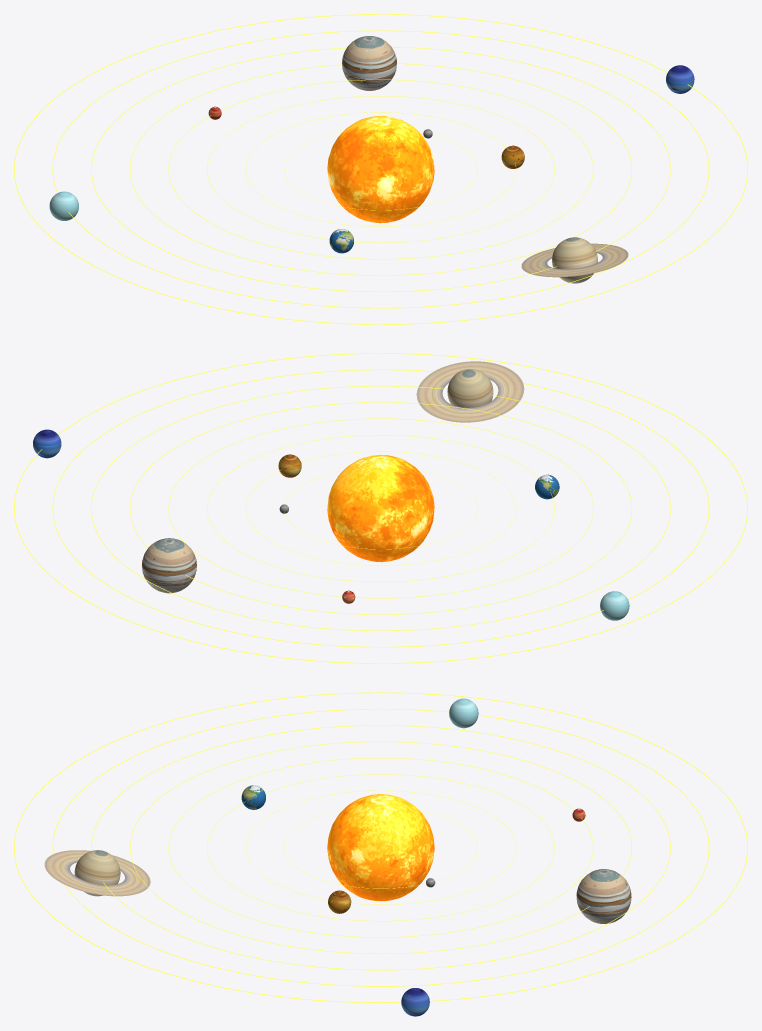
File: modello_del_sistema_solare.glb
3 renders of one model, top to bottom at view 1: azimuth 30°, elevation 25°; view 2: azimuth 150°, elevation 25°; view 3: azimuth 270°, elevation 25°, orthographic.
Visible parts, largest first — view 1: Sun_20, Saturn_28, Jupiter_25, Neptune orbit.001_19, Uranus orbit.001_18, Saturn orbit.001_17, Jupiter orbit.001_16, Mars orbit.001_15, Earth orbit.001_14, Uranus_26, Neptune_27; view 2: Sun_20, Saturn_28, Jupiter_25, Neptune orbit.001_19, Uranus orbit.001_18, Saturn orbit.001_17, Jupiter orbit.001_16, Mars orbit.001_15, Earth orbit.001_14, Uranus_26, Neptune_27; view 3: Sun_20, Saturn_28, Jupiter_25, Neptune orbit.001_19, Uranus orbit.001_18, Saturn orbit.001_17, Jupiter orbit.001_16, Mars orbit.001_15, Earth orbit.001_14, Uranus_26, Neptune_27.
Boxes of the visible parts, bbox=[...] form: Sun_20: bbox=[327, 115, 434, 223]; Saturn_28: bbox=[521, 237, 628, 283]; Jupiter_25: bbox=[342, 36, 396, 90]; Neptune orbit.001_19: bbox=[14, 14, 747, 324]; Uranus orbit.001_18: bbox=[52, 30, 709, 308]; Saturn orbit.001_17: bbox=[91, 47, 670, 291]; Jupiter orbit.001_16: bbox=[130, 63, 631, 275]; Mars orbit.001_15: bbox=[168, 79, 593, 259]; Earth orbit.001_14: bbox=[207, 96, 554, 242]; Uranus_26: bbox=[49, 191, 78, 220]; Neptune_27: bbox=[666, 65, 694, 93]; Sun_20: bbox=[327, 454, 434, 562]; Saturn_28: bbox=[416, 361, 524, 422]; Jupiter_25: bbox=[142, 538, 196, 593]; Neptune orbit.001_19: bbox=[14, 353, 747, 663]; Uranus orbit.001_18: bbox=[52, 369, 709, 647]; Saturn orbit.001_17: bbox=[91, 386, 670, 630]; Jupiter orbit.001_16: bbox=[130, 402, 631, 614]; Mars orbit.001_15: bbox=[168, 418, 593, 598]; Earth orbit.001_14: bbox=[207, 435, 554, 581]; Uranus_26: bbox=[600, 591, 629, 620]; Neptune_27: bbox=[33, 429, 61, 458]; Sun_20: bbox=[327, 794, 434, 901]; Saturn_28: bbox=[44, 850, 150, 896]; Jupiter_25: bbox=[576, 869, 631, 923]; Neptune orbit.001_19: bbox=[14, 692, 747, 1002]; Uranus orbit.001_18: bbox=[52, 708, 709, 986]; Saturn orbit.001_17: bbox=[91, 725, 670, 970]; Jupiter orbit.001_16: bbox=[130, 741, 631, 953]; Mars orbit.001_15: bbox=[168, 758, 593, 937]; Earth orbit.001_14: bbox=[207, 774, 554, 921]; Uranus_26: bbox=[449, 698, 478, 728]; Neptune_27: bbox=[401, 988, 429, 1016].
Size of the model in its own units: 773 by 111 by 760.
Materials: 11 (10 with a texture image).
